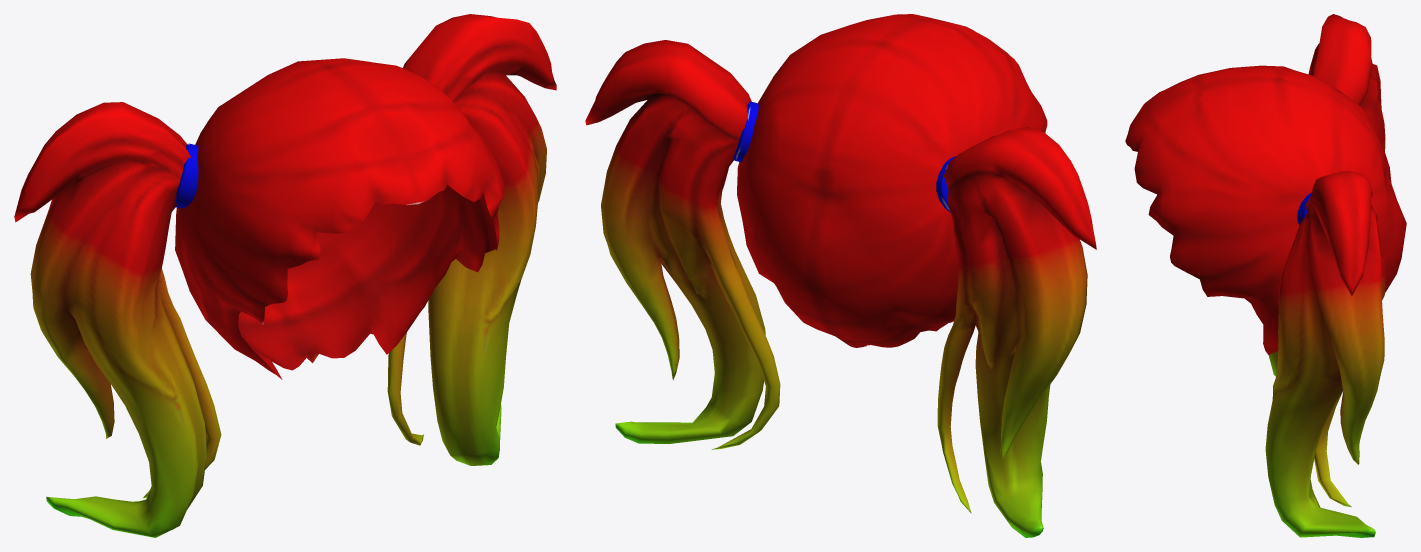
Rendered from HairBack_TwinTailLong.obj.
The picture shows the model from 3 angles, left to right: view 1: azimuth 30°, elevation 25°; view 2: azimuth 150°, elevation 25°; view 3: azimuth 270°, elevation 25°; orthographic projection. The views are drawn at different scales.
Parts seen in each view (by area): view 1: HairBack_TwinTailLong_0; view 2: HairBack_TwinTailLong_0; view 3: HairBack_TwinTailLong_0.
Part boxes in pixels (left/top/right/bottom): HairBack_TwinTailLong_0: left=14, top=14, right=556, bottom=537; HairBack_TwinTailLong_0: left=585, top=14, right=1096, bottom=537; HairBack_TwinTailLong_0: left=1125, top=14, right=1406, bottom=537.
Size of the model in its own units: 0.4096 by 0.3263 by 0.2159.
1 material, 1 textured.
